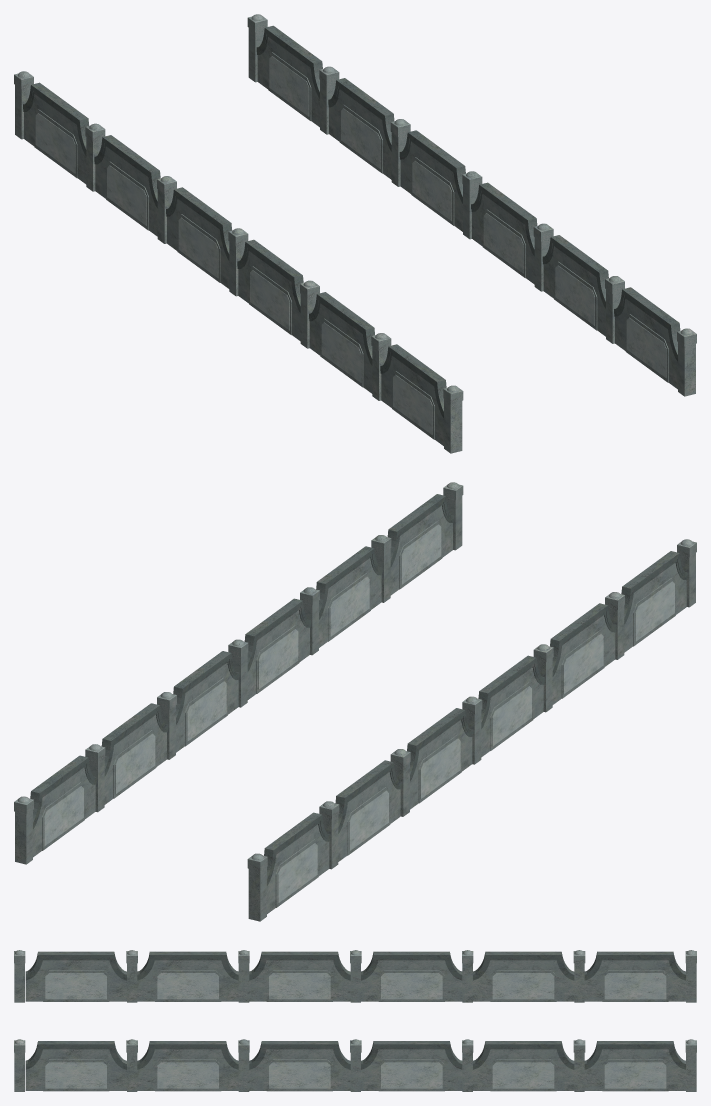
File: BalustradeMulti.FBX
The picture shows the model from 3 angles, top to bottom: view 1: azimuth 30°, elevation 25°; view 2: azimuth 150°, elevation 25°; view 3: azimuth 270°, elevation 25°; orthographic projection. The views are drawn at different scales.
Visible parts, largest first — view 1: Balustrade005; view 2: Balustrade005; view 3: Balustrade005.
Part boxes in pixels (x1,y1,x2,y2): Balustrade005: (14,14,696,453); Balustrade005: (14,482,696,921); Balustrade005: (14,950,696,1091).
Size of the model in its own units: 141 by 34.71 by 433.
3 materials, 3 textured.
